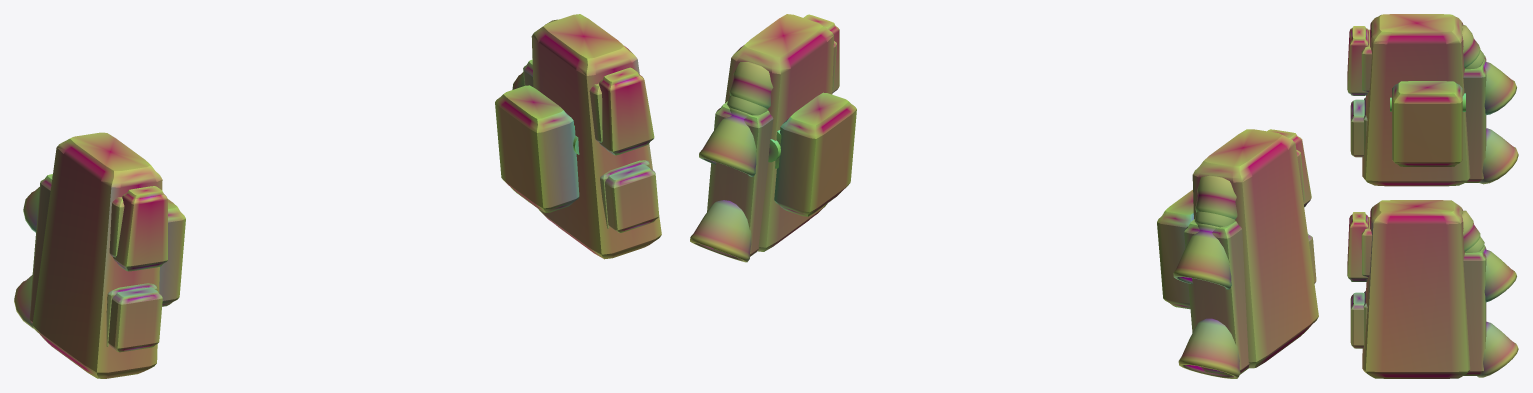
File: llm_gen_leg_thrusters_023_98abde.glb
3 views of the same model, side by side, from view 1: azimuth 30°, elevation 25°; view 2: azimuth 150°, elevation 25°; view 3: azimuth 270°, elevation 25° (orthographic). The views are drawn at different scales.
Visible parts, largest first — view 1: outer_shin_armor_0_titanium_silver_l, outer_shin_armor_0_titanium_silver_r, adapter_calf_clamp_r, knee_guard_blade_2_gold_l, knee_guard_blade_2_gold_r, lower_shin_bumper_4_crimson_gloss_l, lower_shin_bumper_4_crimson_gloss_r, adapter_calf_clamp_l, rear_thruster_manifold_dark_5_adapter_dark_l, rear_surge_bell_bot_7_vernier_bell_vernier_l, knee_guard_adapter_dark_1_adapter_dark_l, knee_guard_adapter_dark_1_adapter_dark_r; view 2: outer_shin_armor_0_titanium_silver_l, outer_shin_armor_0_titanium_silver_r, adapter_calf_clamp_r, rear_thruster_manifold_dark_5_adapter_dark_l, rear_thruster_manifold_dark_5_adapter_dark_r, adapter_calf_clamp_l, rear_surge_bell_bot_7_vernier_bell_vernier_l, rear_surge_bell_bot_7_vernier_bell_vernier_r, rear_surge_bell_top_6_vernier_bell_vernier_r, rear_surge_bell_top_6_vernier_bell_vernier_l, rear_surge_bell_top_6_vernier_bell_gimbal_collar_dark_r, rear_surge_bell_top_6_vernier_bell_gimbal_collar_dark_l (+2 smaller); view 3: outer_shin_armor_0_titanium_silver_r, outer_shin_armor_0_titanium_silver_l, adapter_calf_clamp_l, rear_thruster_manifold_dark_5_adapter_dark_r, rear_thruster_manifold_dark_5_adapter_dark_l, rear_surge_bell_bot_7_vernier_bell_vernier_l, rear_surge_bell_bot_7_vernier_bell_vernier_r, rear_surge_bell_top_6_vernier_bell_vernier_l, knee_guard_blade_2_gold_l, knee_guard_blade_2_gold_r, rear_surge_bell_top_6_vernier_bell_vernier_r, lower_shin_bumper_4_crimson_gloss_l (+7 smaller).
Part boxes in pixels (bbox=[...]): outer_shin_armor_0_titanium_silver_l: bbox=[32, 132, 162, 378]; outer_shin_armor_0_titanium_silver_r: bbox=[531, 14, 661, 259]; adapter_calf_clamp_r: bbox=[495, 85, 579, 212]; knee_guard_blade_2_gold_l: bbox=[113, 186, 167, 271]; knee_guard_blade_2_gold_r: bbox=[599, 67, 654, 155]; lower_shin_bumper_4_crimson_gloss_l: bbox=[108, 287, 162, 352]; lower_shin_bumper_4_crimson_gloss_r: bbox=[605, 164, 659, 232]; adapter_calf_clamp_l: bbox=[159, 199, 185, 306]; rear_thruster_manifold_dark_5_adapter_dark_l: bbox=[29, 174, 52, 322]; rear_surge_bell_bot_7_vernier_bell_vernier_l: bbox=[14, 275, 33, 328]; knee_guard_adapter_dark_1_adapter_dark_l: bbox=[109, 197, 124, 257]; knee_guard_adapter_dark_1_adapter_dark_r: bbox=[589, 83, 602, 142]; outer_shin_armor_0_titanium_silver_l: bbox=[1192, 129, 1318, 368]; outer_shin_armor_0_titanium_silver_r: bbox=[725, 14, 833, 251]; adapter_calf_clamp_r: bbox=[774, 92, 856, 216]; rear_thruster_manifold_dark_5_adapter_dark_l: bbox=[1184, 219, 1249, 375]; rear_thruster_manifold_dark_5_adapter_dark_r: bbox=[707, 101, 773, 256]; adapter_calf_clamp_l: bbox=[1157, 190, 1193, 309]; rear_surge_bell_bot_7_vernier_bell_vernier_l: bbox=[1178, 318, 1240, 378]; rear_surge_bell_bot_7_vernier_bell_vernier_r: bbox=[690, 200, 751, 262]; rear_surge_bell_top_6_vernier_bell_vernier_r: bbox=[699, 107, 756, 176]; rear_surge_bell_top_6_vernier_bell_vernier_l: bbox=[1173, 223, 1231, 289]; rear_surge_bell_top_6_vernier_bell_gimbal_collar_dark_r: bbox=[729, 62, 773, 108]; rear_surge_bell_top_6_vernier_bell_gimbal_collar_dark_l: bbox=[1195, 175, 1237, 219]; outer_shin_armor_0_titanium_silver_r: bbox=[1362, 200, 1470, 378]; outer_shin_armor_0_titanium_silver_l: bbox=[1362, 14, 1470, 186]; adapter_calf_clamp_l: bbox=[1392, 81, 1462, 166]; rear_thruster_manifold_dark_5_adapter_dark_r: bbox=[1463, 247, 1486, 375]; rear_thruster_manifold_dark_5_adapter_dark_l: bbox=[1463, 55, 1486, 182]; rear_surge_bell_bot_7_vernier_bell_vernier_l: bbox=[1479, 128, 1518, 184]; rear_surge_bell_bot_7_vernier_bell_vernier_r: bbox=[1477, 321, 1518, 377]; rear_surge_bell_top_6_vernier_bell_vernier_l: bbox=[1481, 58, 1516, 115]; knee_guard_blade_2_gold_l: bbox=[1347, 26, 1368, 95]; knee_guard_blade_2_gold_r: bbox=[1347, 212, 1368, 281]; rear_surge_bell_top_6_vernier_bell_vernier_r: bbox=[1481, 245, 1516, 302]; lower_shin_bumper_4_crimson_gloss_l: bbox=[1350, 99, 1364, 157].
Size of the model in its own units: 80.86 by 28.07 by 26.6.
